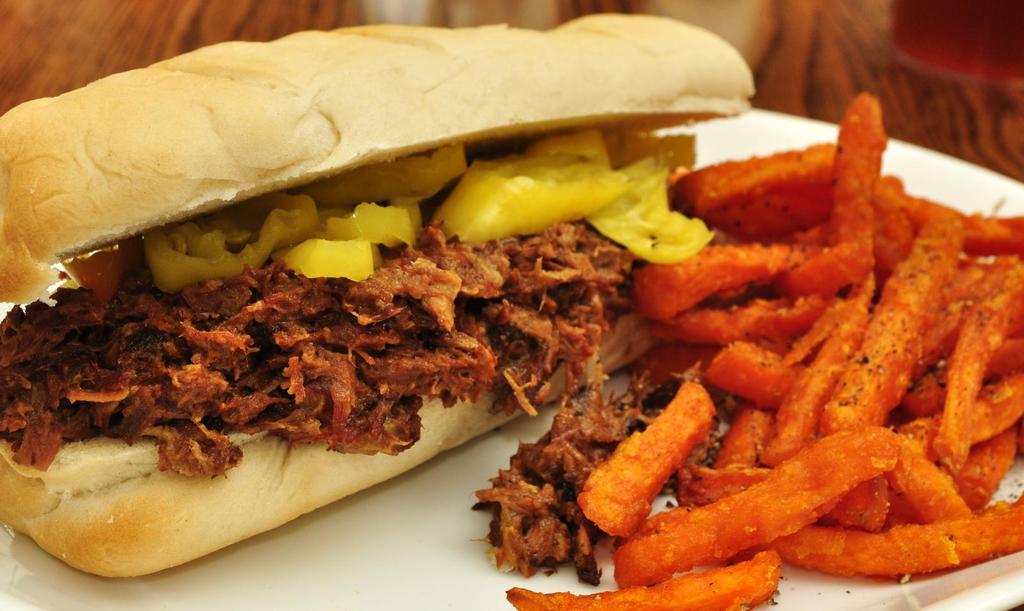French fries: (641, 158, 1023, 593)
